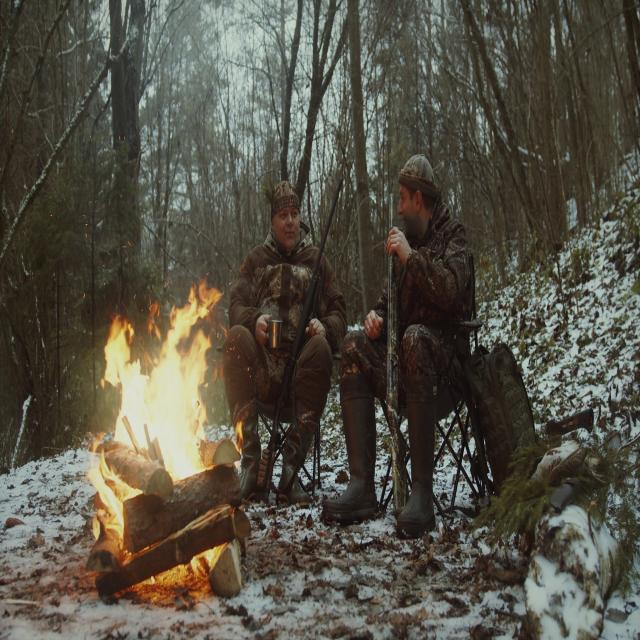Fire: (75, 258, 252, 608)
